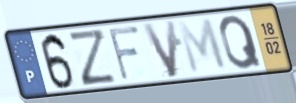6: (39, 31, 76, 91)
F: (106, 24, 142, 84)
M: (175, 17, 230, 77)
Q: (218, 13, 265, 72)
V: (139, 18, 179, 81)
Z: (66, 27, 119, 88)
